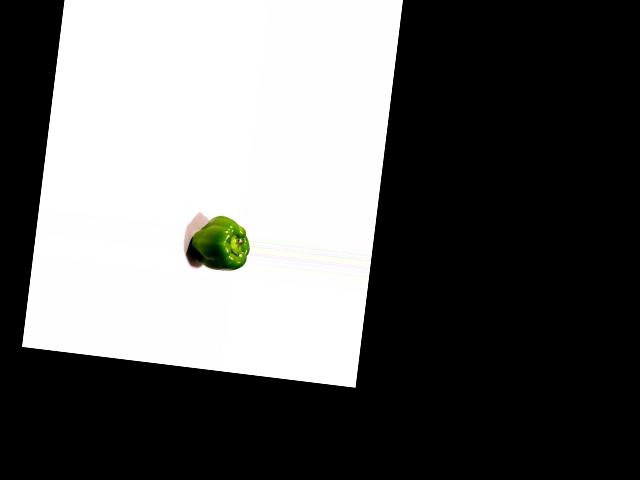bell_pepper: (185, 210, 252, 274)
